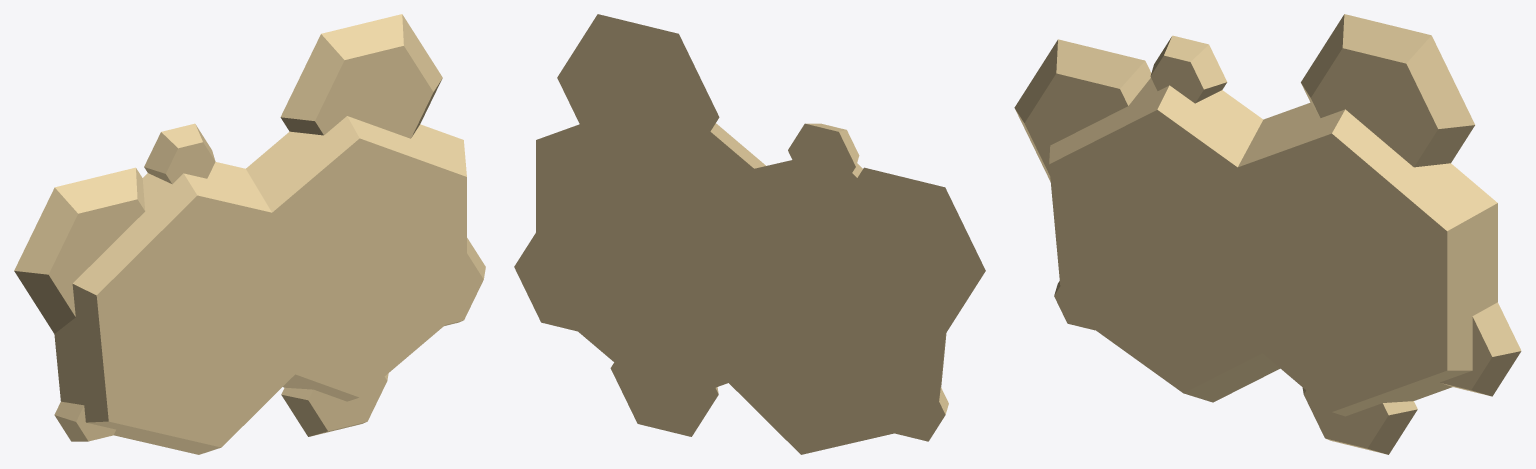
The model's file is rock.glb.
3 views of the same model, side by side, from view 1: azimuth 30°, elevation 25°; view 2: azimuth 150°, elevation 25°; view 3: azimuth 330°, elevation 25° (orthographic). The views are drawn at different scales.
Parts seen in each view (by area): view 1: rockFlat; view 2: rockFlat; view 3: rockFlat.
Boxes of the visible parts, x1,y1,x2,y2 form: rockFlat: (14,14,485,454); rockFlat: (514,14,985,454); rockFlat: (1014,14,1521,454).
Size of the model in its own units: 1.79 by 1.45 by 0.165.
